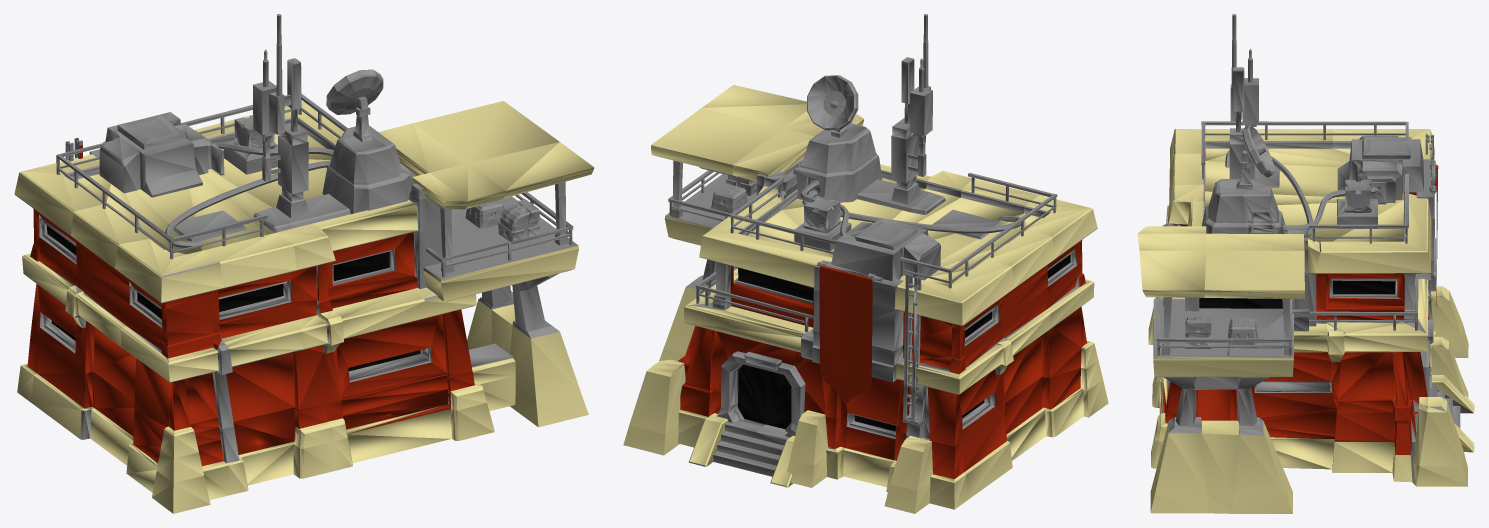
The model's file is building - enemy outpost.glb.
3 renders of one model, left to right at view 1: azimuth 30°, elevation 25°; view 2: azimuth 150°, elevation 25°; view 3: azimuth 270°, elevation 25°, orthographic. The views are drawn at different scales.
Visible parts, largest first — view 1: tripo_node_064a955e-a0c8-4591-8928-0ff0298cb16e, radar; view 2: tripo_node_064a955e-a0c8-4591-8928-0ff0298cb16e, radar; view 3: tripo_node_064a955e-a0c8-4591-8928-0ff0298cb16e, radar.
Boxes of the visible parts, x1,y1,x2,y2 form: tripo_node_064a955e-a0c8-4591-8928-0ff0298cb16e: (14,14,594,513); radar: (326,69,383,142); tripo_node_064a955e-a0c8-4591-8928-0ff0298cb16e: (623,14,1108,513); radar: (807,75,858,137); tripo_node_064a955e-a0c8-4591-8928-0ff0298cb16e: (1137,14,1474,513); radar: (1236,125,1274,189).
Bounding box in the file's own units: 16.47 × 16.22 × 12.87.
